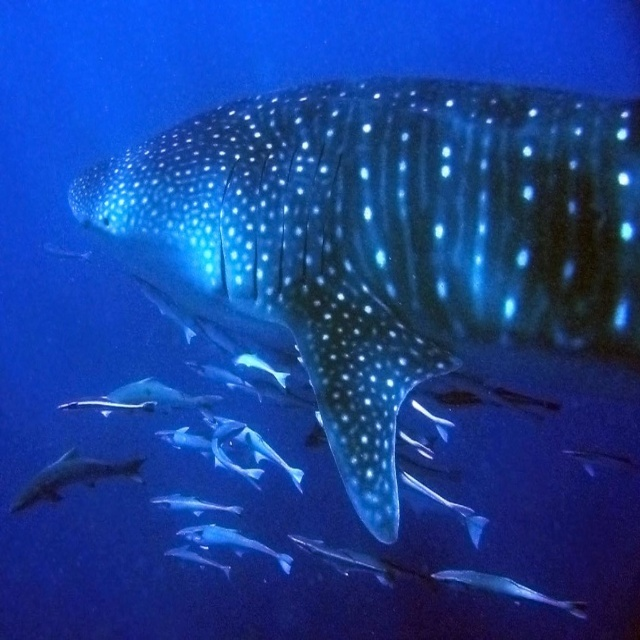Shark: (67, 75, 640, 544)
